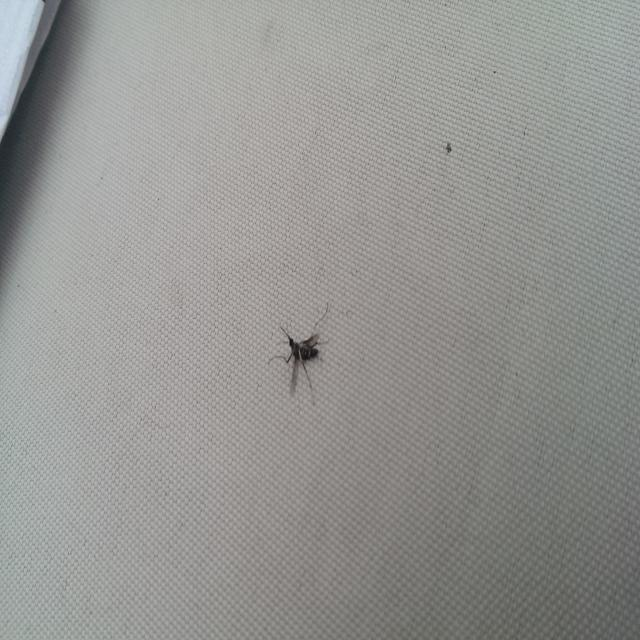albopictus: (264, 290, 336, 401)
